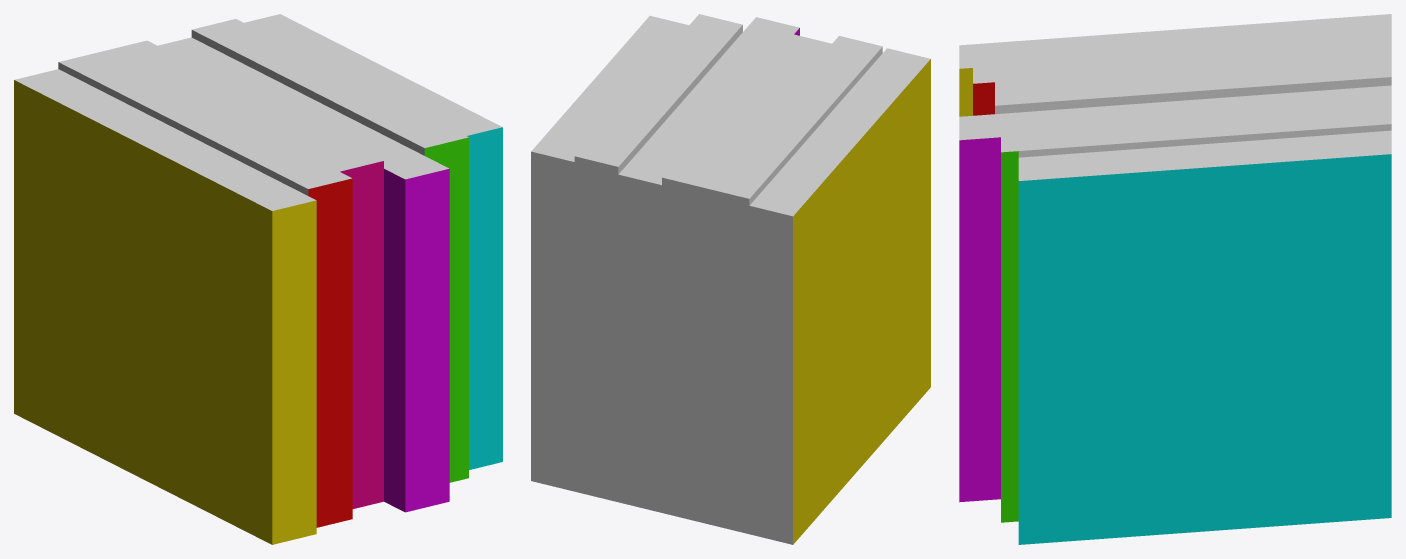
File: Books.fbx
3 renders of one model, left to right at view 1: azimuth 30°, elevation 25°; view 2: azimuth 150°, elevation 25°; view 3: azimuth 270°, elevation 25°, orthographic. The views are drawn at different scales.
Visible parts, largest first — view 1: bloc_llibres001; view 2: bloc_llibres001; view 3: bloc_llibres001.
Part boxes in pixels (x1,y1,x2,y2): bloc_llibres001: [14, 14, 502, 544]; bloc_llibres001: [531, 14, 930, 544]; bloc_llibres001: [959, 14, 1391, 544].
Bounding box in the file's own units: 15.25 × 16.57 × 15.65.
